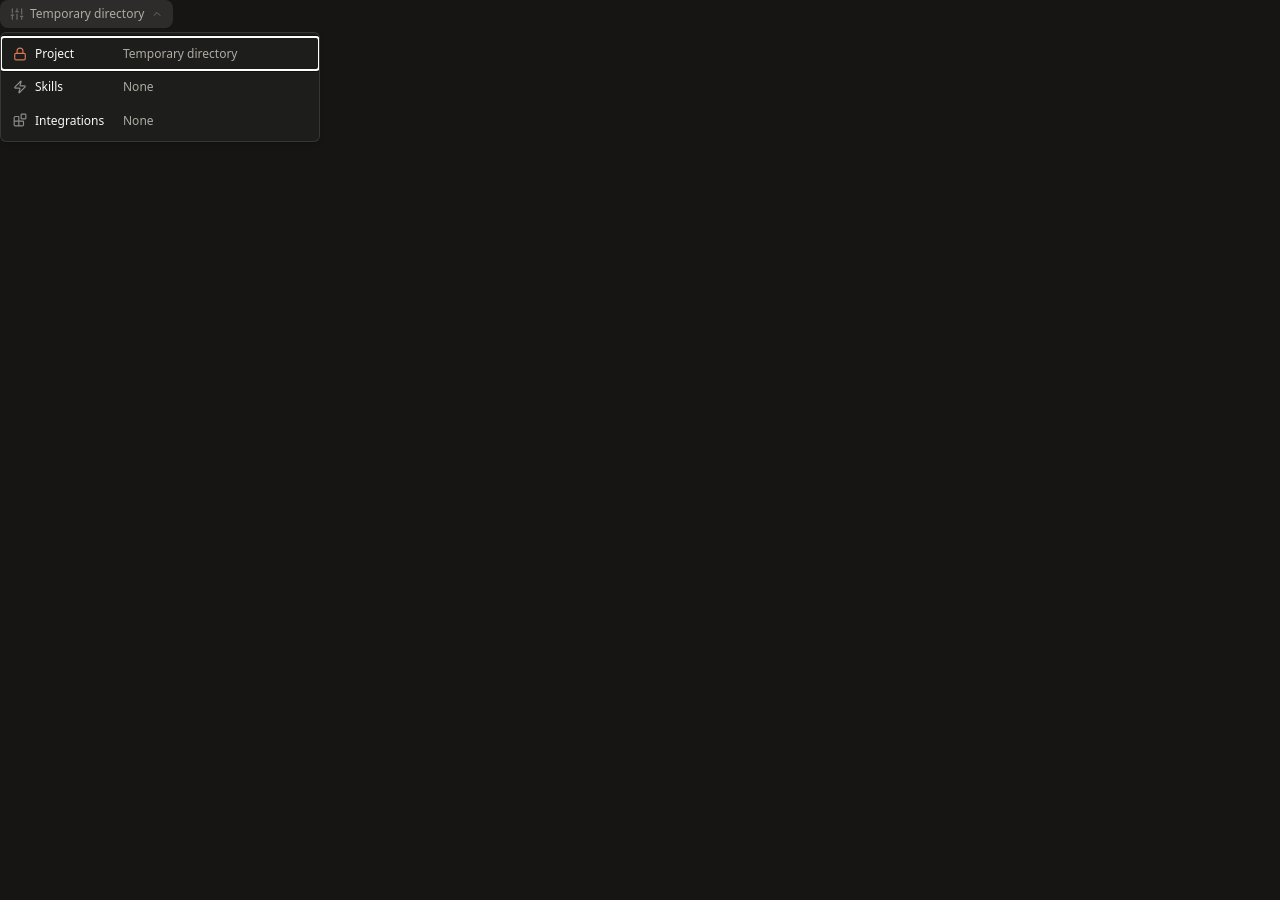
Test: ConfigMenu — locked project (durable rebind) › shows the bound-project banner instead of an editable-looking list
Click the text "Project": (55, 54) [35, 45, 74, 62]
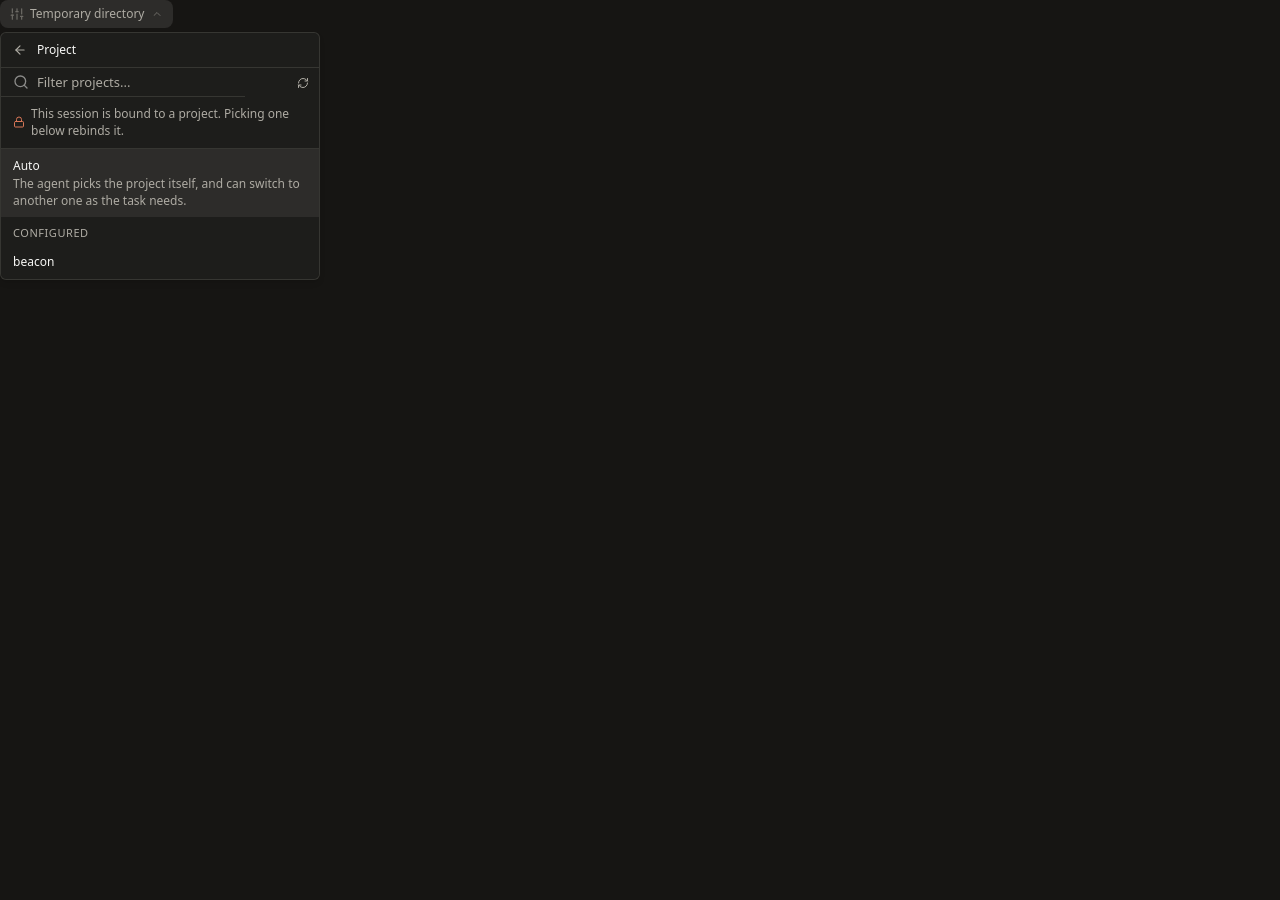
Expected: the text "This session is bound to a project" is shown, [31, 105, 289, 139]
